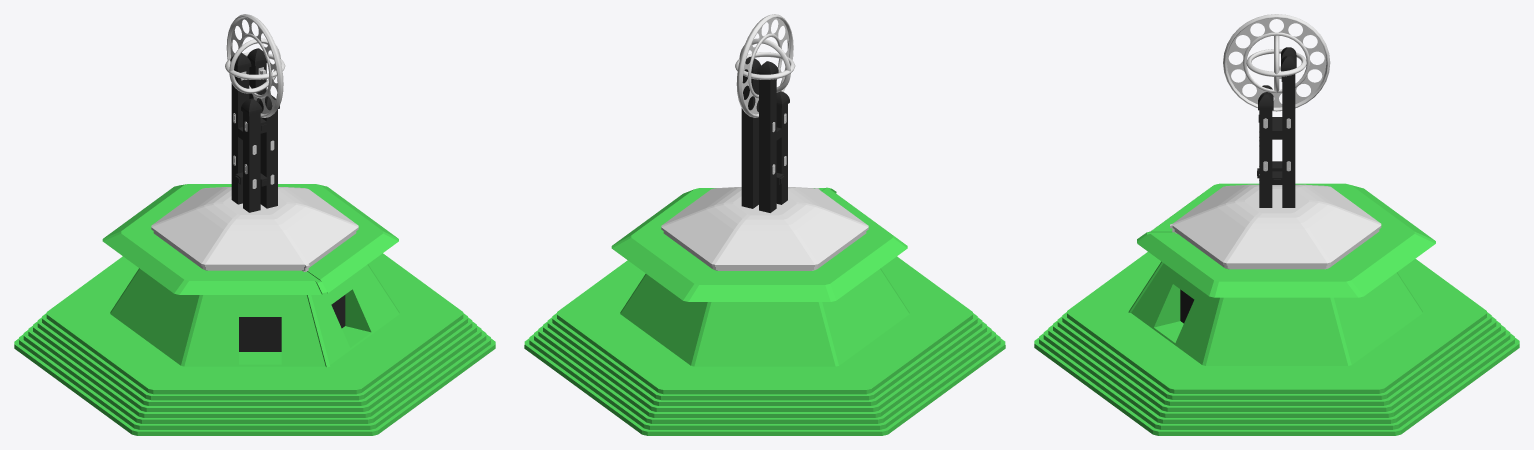
File: PONTIANAK.fbx
3 renders of one model, left to right at view 1: azimuth 30°, elevation 25°; view 2: azimuth 150°, elevation 25°; view 3: azimuth 270°, elevation 25°, orthographic.
Visible parts, largest first — view 1: Circle, Cube, Circle.001, Torus; view 2: Circle, Cube, Circle.001, Torus.001; view 3: Circle, Cube, Circle.001, Torus.001.
Part boxes in pixels (left/top/right/bottom): Circle: left=14, top=184, right=495, bottom=435; Cube: left=230, top=48, right=279, bottom=212; Circle.001: left=226, top=14, right=283, bottom=117; Torus: left=229, top=38, right=280, bottom=93; Circle: left=524, top=187, right=1005, bottom=435; Cube: left=741, top=57, right=789, bottom=212; Circle.001: left=736, top=14, right=793, bottom=117; Torus.001: left=735, top=52, right=795, bottom=79; Circle: left=1034, top=183, right=1519, bottom=435; Cube: left=1257, top=47, right=1296, bottom=207; Circle.001: left=1223, top=14, right=1330, bottom=111; Torus.001: left=1246, top=49, right=1306, bottom=76.
Bounding box in the file's own units: 542 × 469 × 621.
